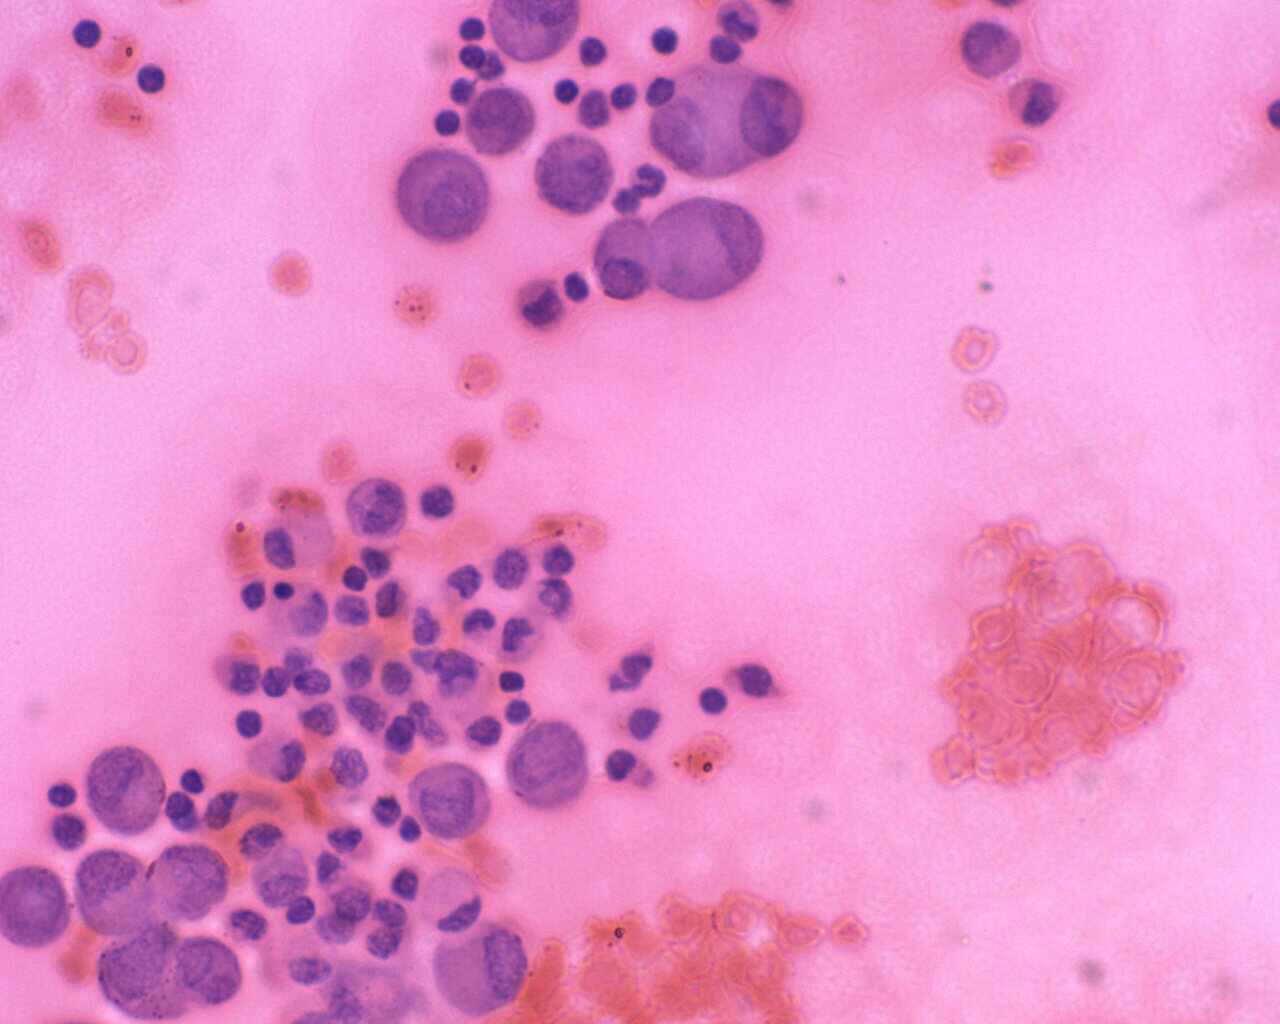ab: (653, 65, 806, 180), (389, 145, 499, 247), (433, 921, 529, 1019), (507, 718, 588, 816), (406, 762, 499, 847), (98, 927, 182, 1022), (85, 747, 171, 838), (67, 847, 154, 936), (148, 839, 231, 930), (532, 130, 612, 222), (467, 87, 542, 160), (334, 475, 413, 544)
lymph: (65, 13, 114, 54), (691, 683, 734, 725), (131, 55, 171, 96)
neutro: (627, 156, 671, 201)
